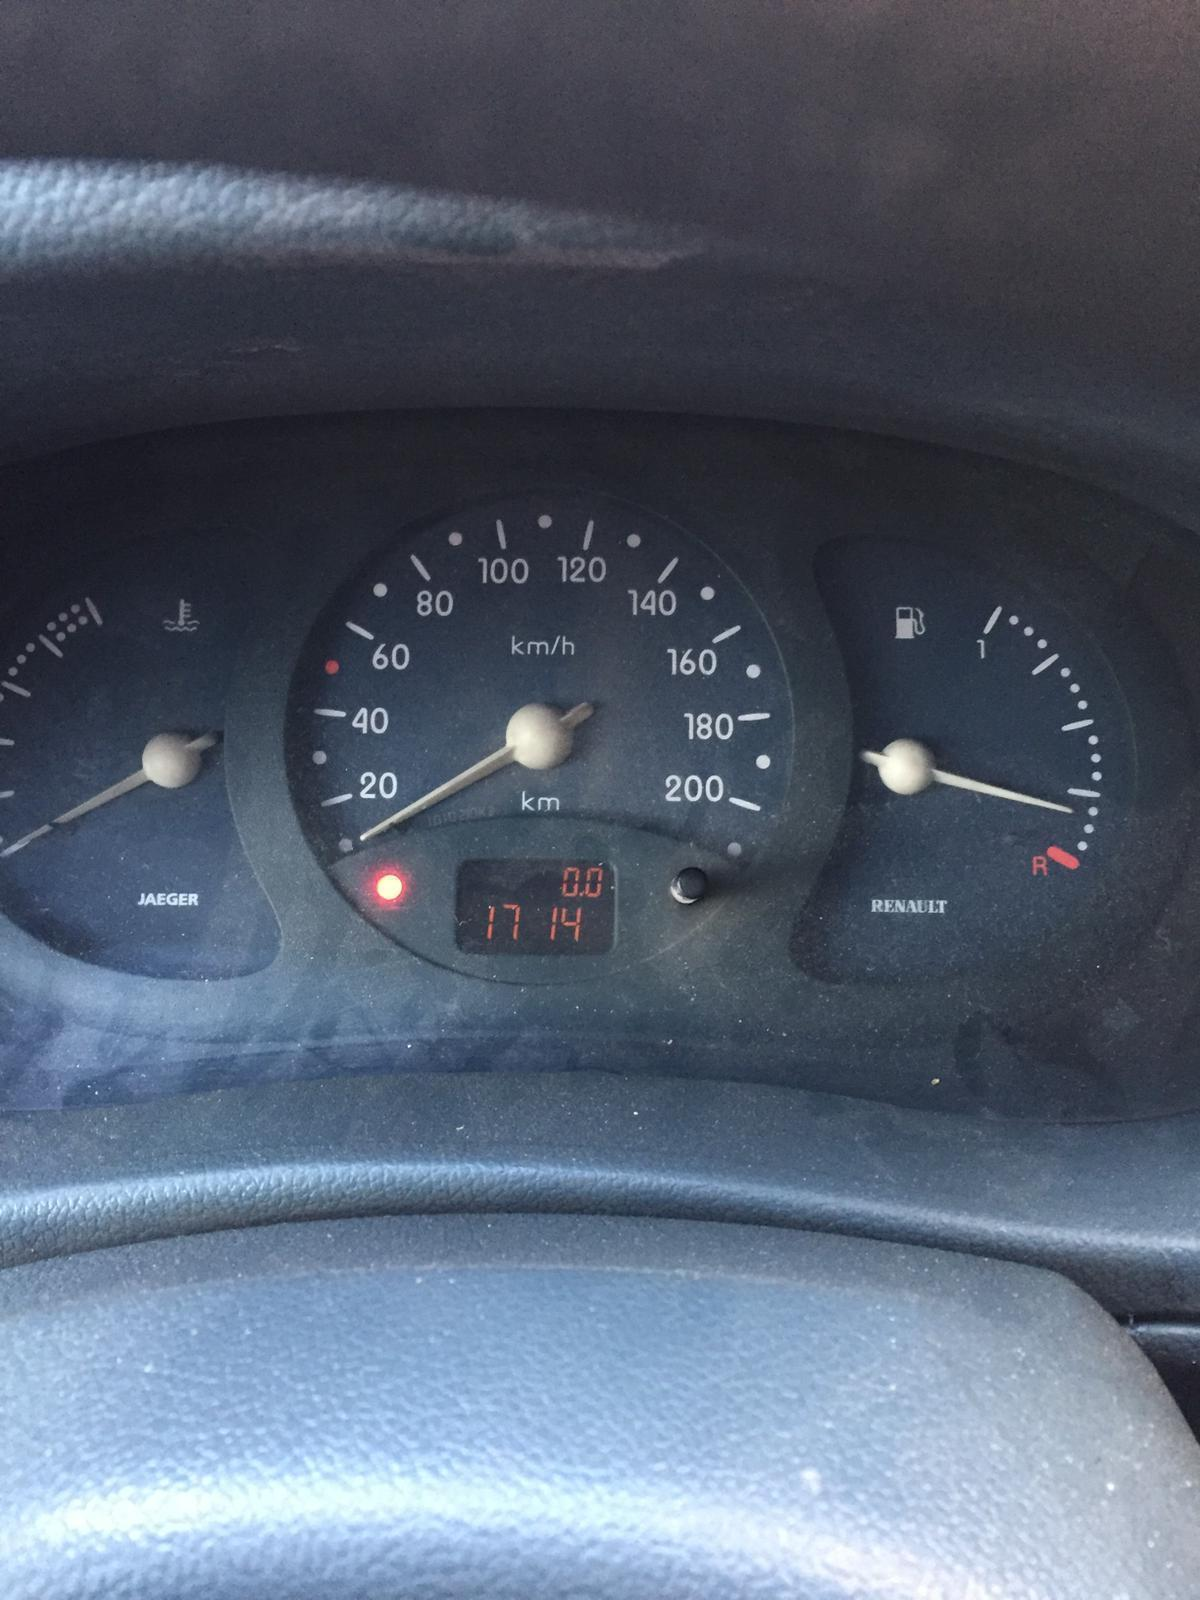,: (579, 891, 584, 897)
0: (584, 867, 603, 897), (561, 866, 579, 896)
1: (487, 905, 495, 940), (550, 906, 558, 941)
4: (560, 906, 582, 944)
7: (500, 903, 521, 941)
odometer: (450, 850, 621, 960)
